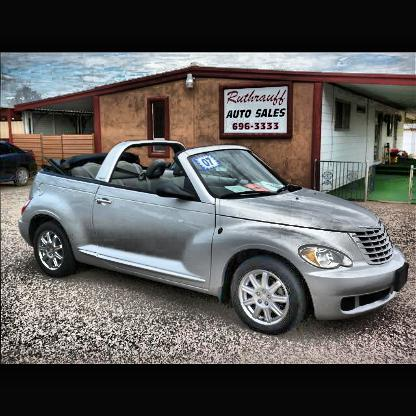Chrysler PT Cruiser Convertible 2008: (17, 134, 414, 338)
